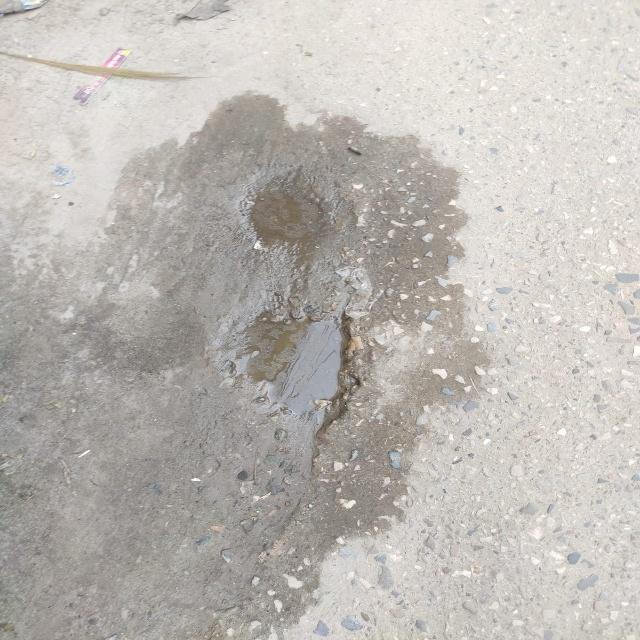Surface Erosion: (133, 128, 456, 519)
